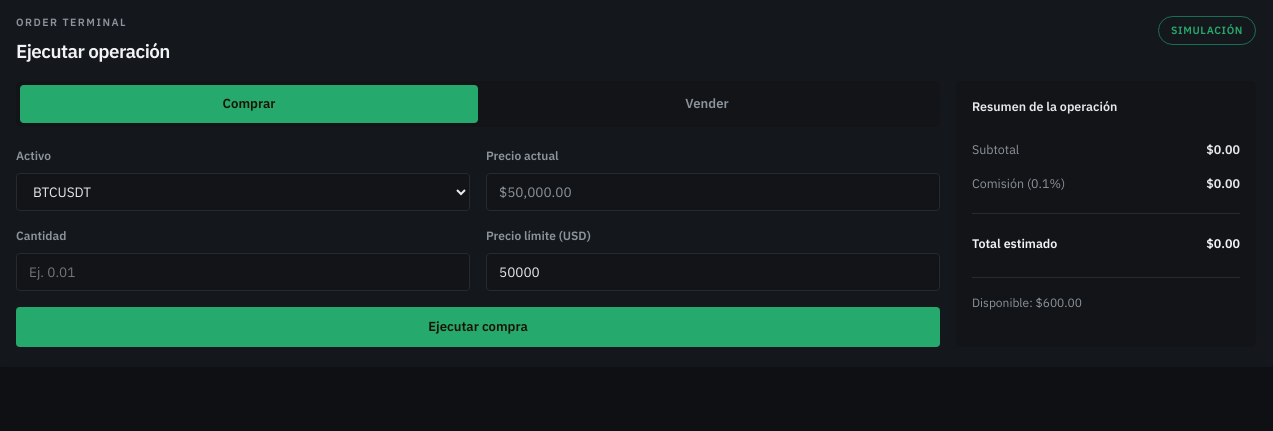
Test: TradingPanel › ejecuta la orden y recarga los datos (T7)
The width and height of the screenshot is (1273, 431).
Step 1. Type "0.0001" into the number field labelled "Cantidad" → (243, 272), box [16,253,470,291]
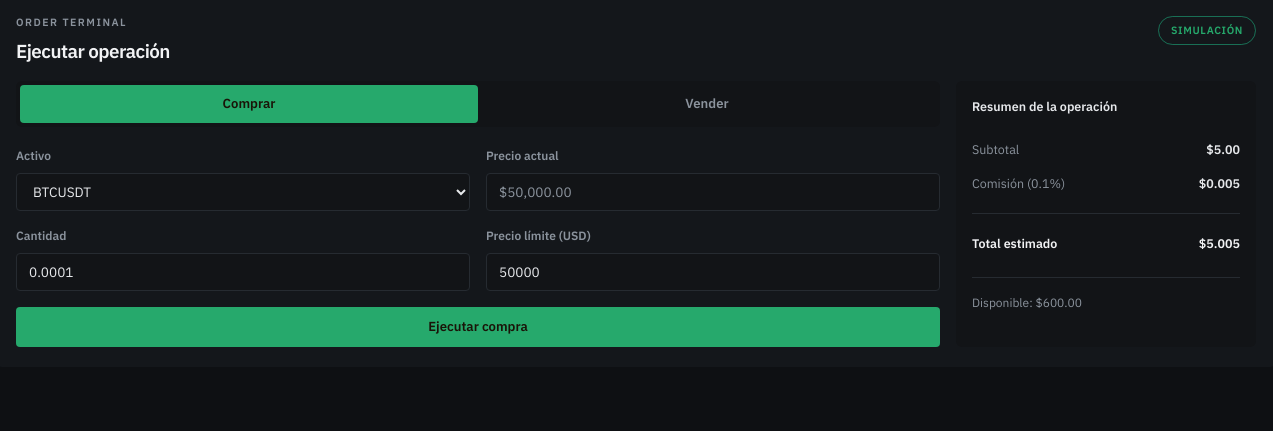
Step 2. Click the button "Ejecutar compra" → (478, 327), box [16,307,940,347]
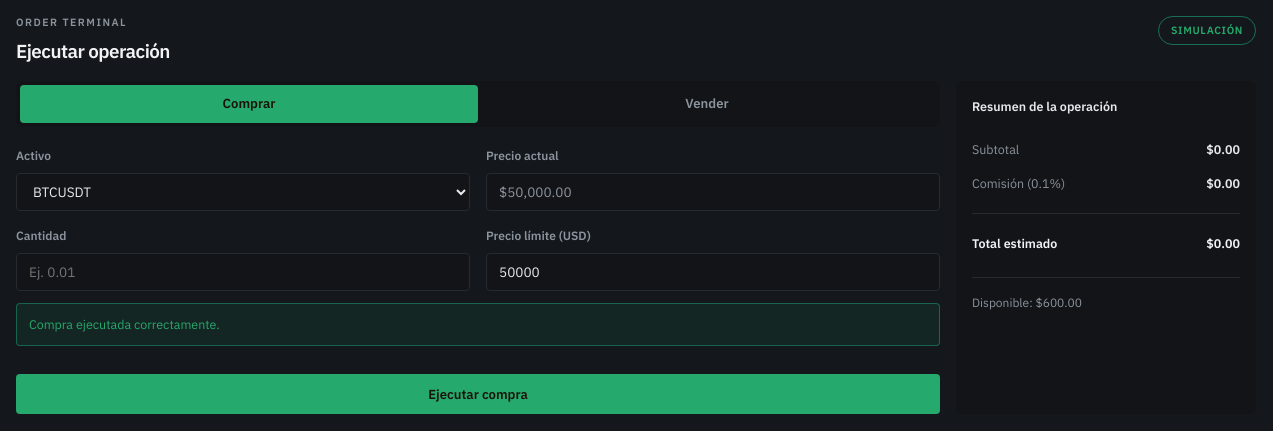
Check: the text "Compra ejecutada correctamente." is shown, box [16,303,940,346]
